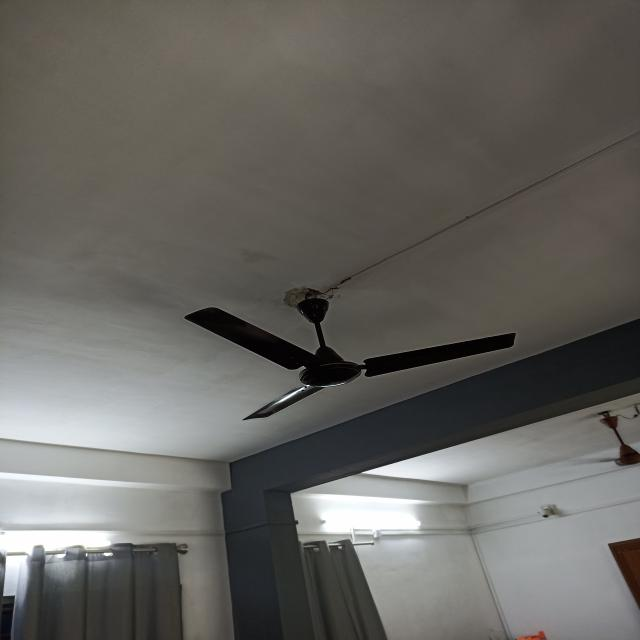fan: (183, 289, 517, 420), (570, 410, 639, 467)
